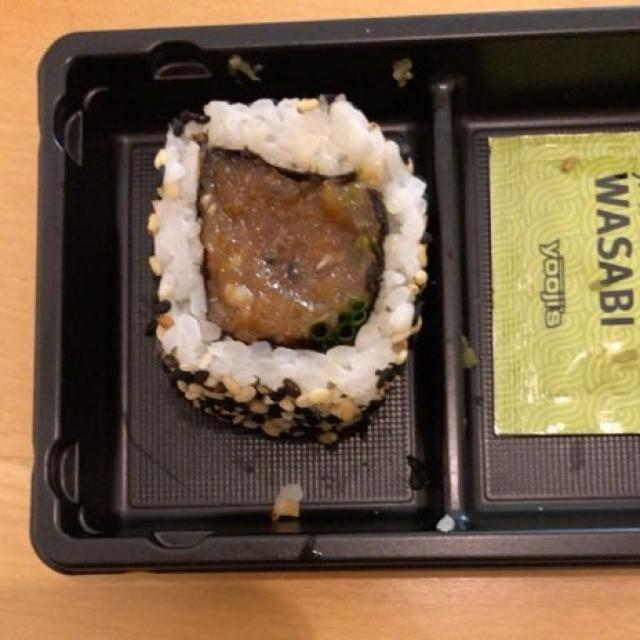sushi: (159, 103, 430, 435)
